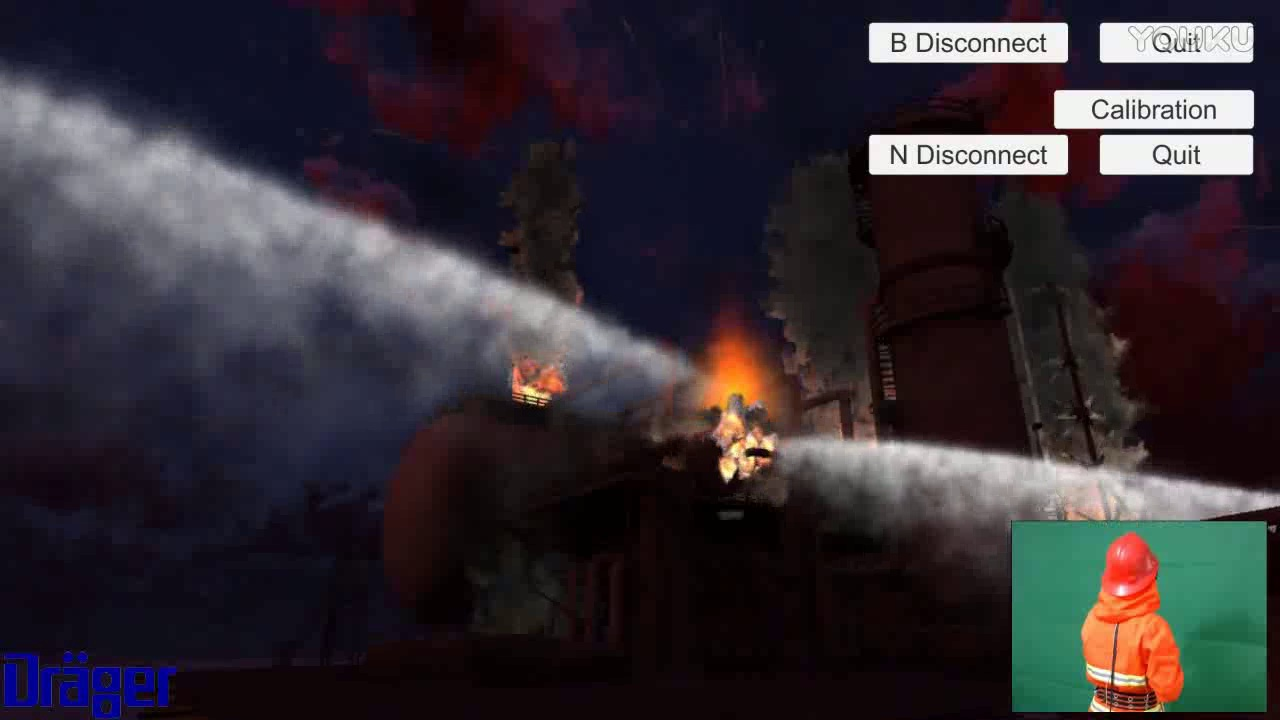fire: (695, 286, 771, 438)
